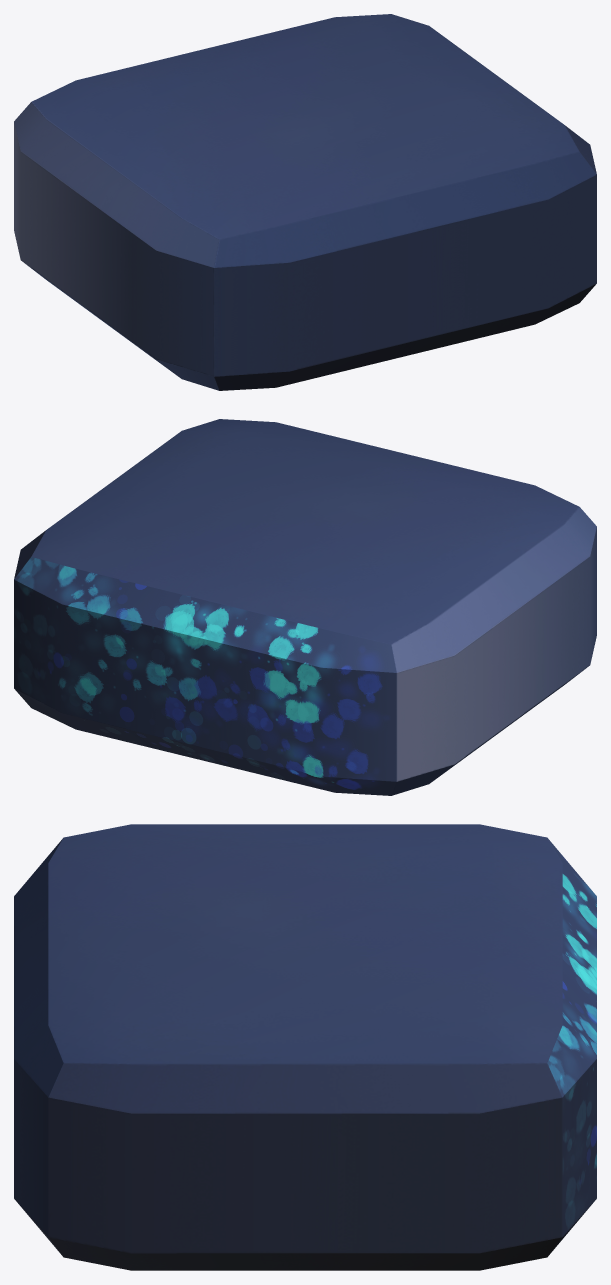
Rendered from small block.fbx.
3 renders of one model, top to bottom at view 1: azimuth 30°, elevation 25°; view 2: azimuth 150°, elevation 25°; view 3: azimuth 270°, elevation 25°, orthographic. The views are drawn at different scales.
Parts seen in each view (by area): view 1: Level Block Short.006; view 2: Level Block Short.006; view 3: Level Block Short.006.
Boxes of the visible parts, <box> form: Level Block Short.006: <box>14,14,596,390</box>; Level Block Short.006: <box>14,419,596,795</box>; Level Block Short.006: <box>14,824,596,1270</box>.
Size of the model in its own units: 81.19 by 32.59 by 73.54.
